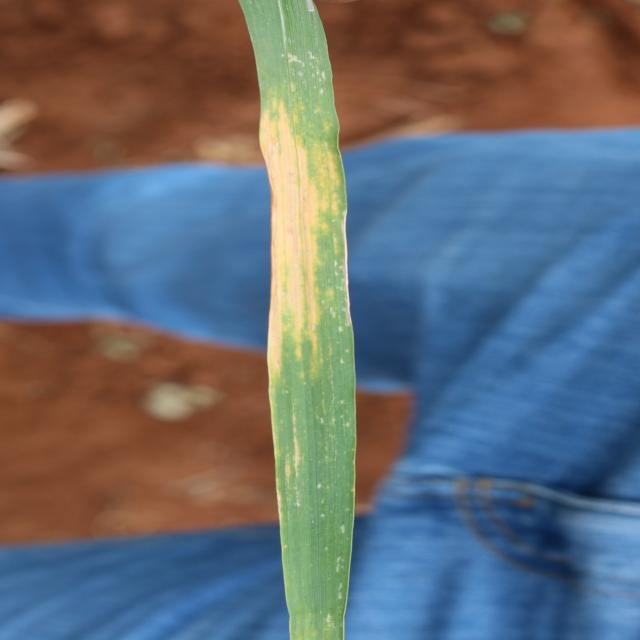Septoria: (238, 1, 359, 638)
